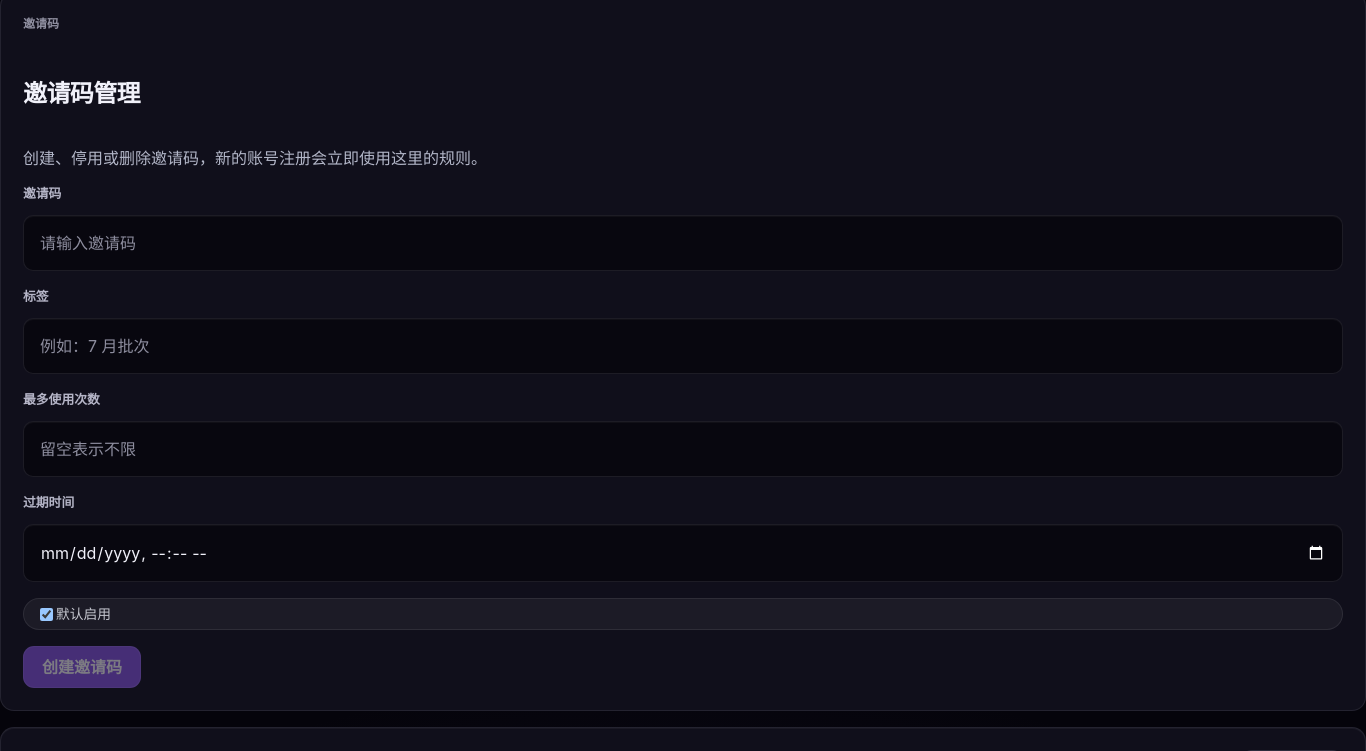
Test: InviteCodesPanel › renders invite codes and creates a new invite
Type "SMBU@2014520uu-" into the field labelled "邀请码" at (683, 243), box 23,215 -> 1343,271
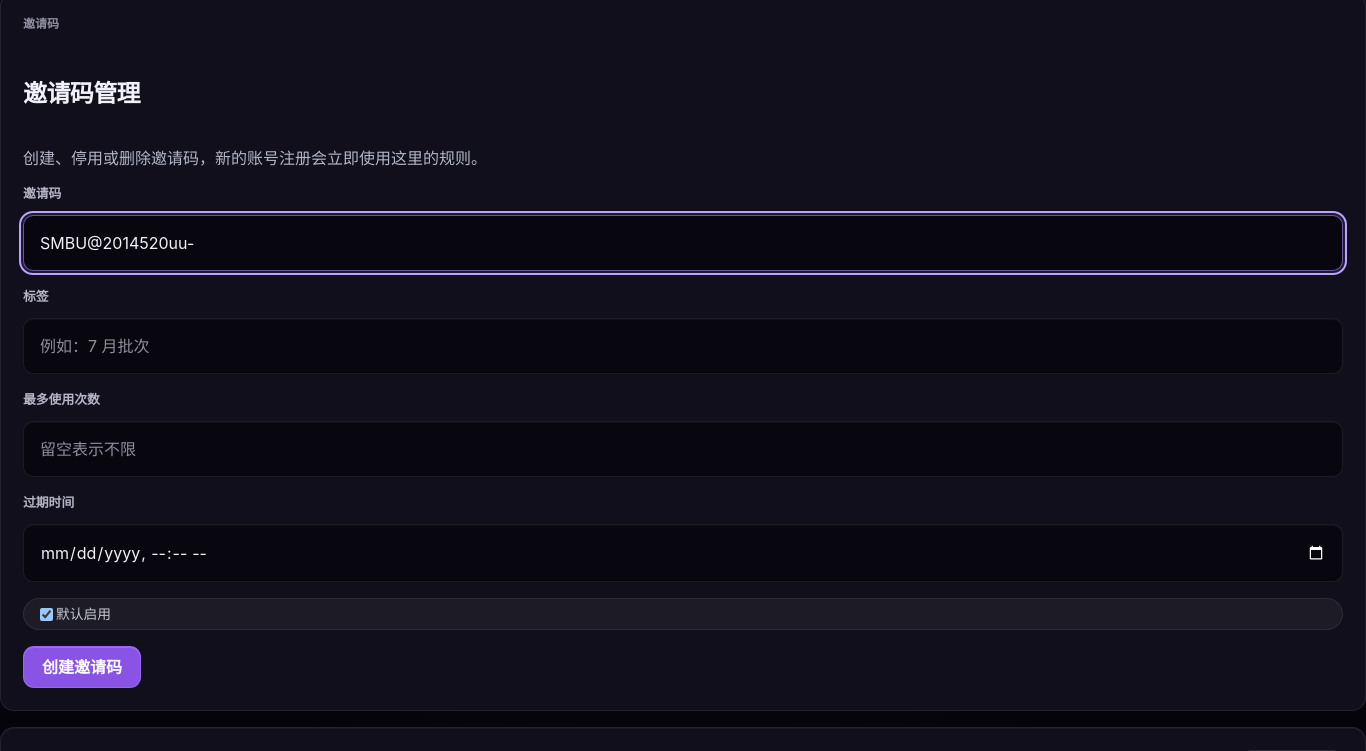
Type "July batch" into the field labelled "标签" at (683, 346), box 23,318 -> 1343,374
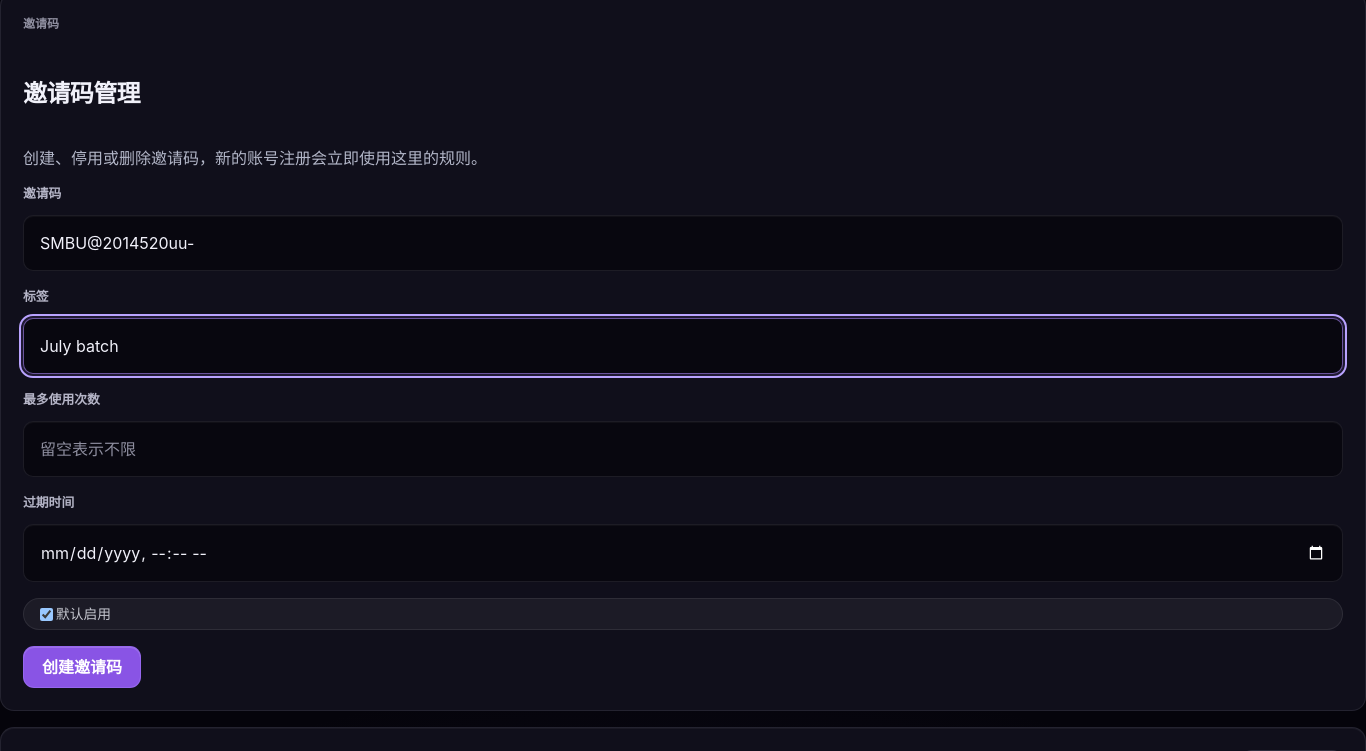
Type "5" into the number field labelled "最多使用次数" at (683, 449), box 23,421 -> 1343,477
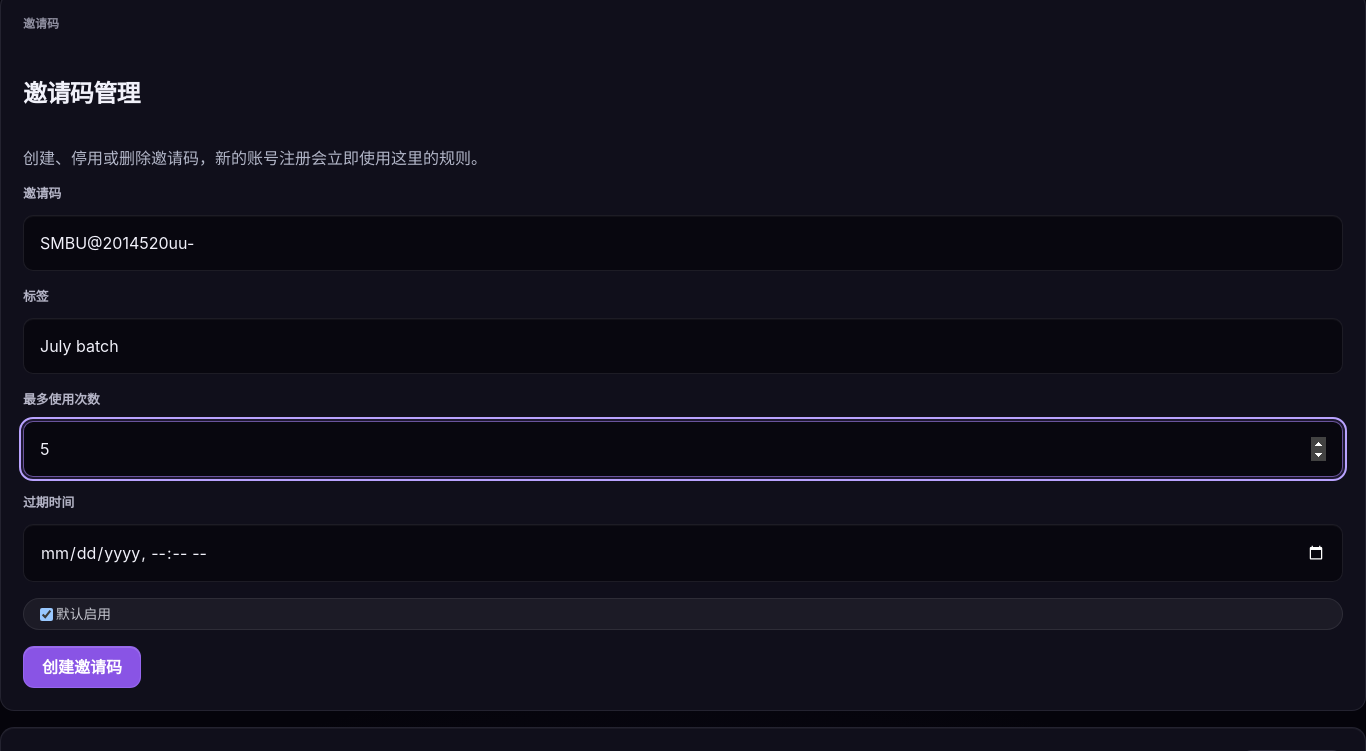
Click the button "创建邀请码" at (82, 667), box 23,646 -> 141,688
(page scrolled)
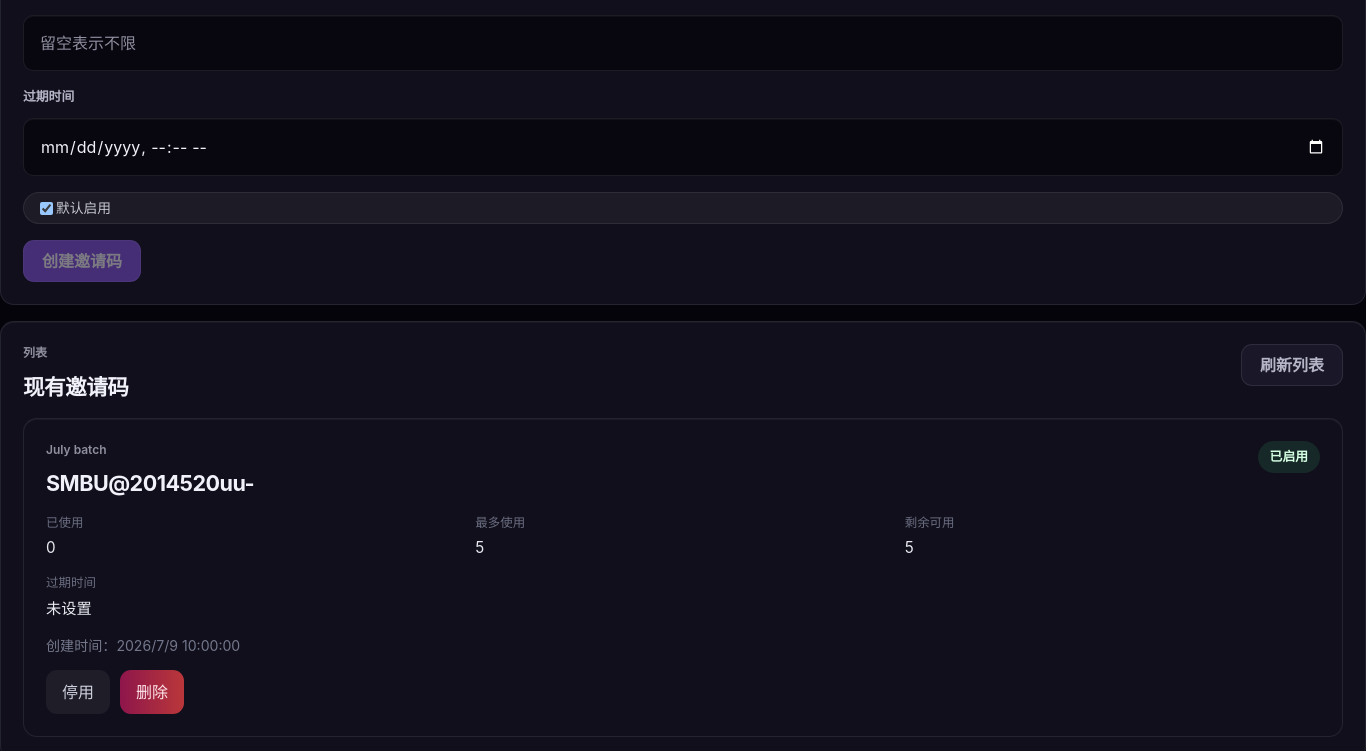
Result: the text "July batch" is shown at 46,442 -> 107,456
